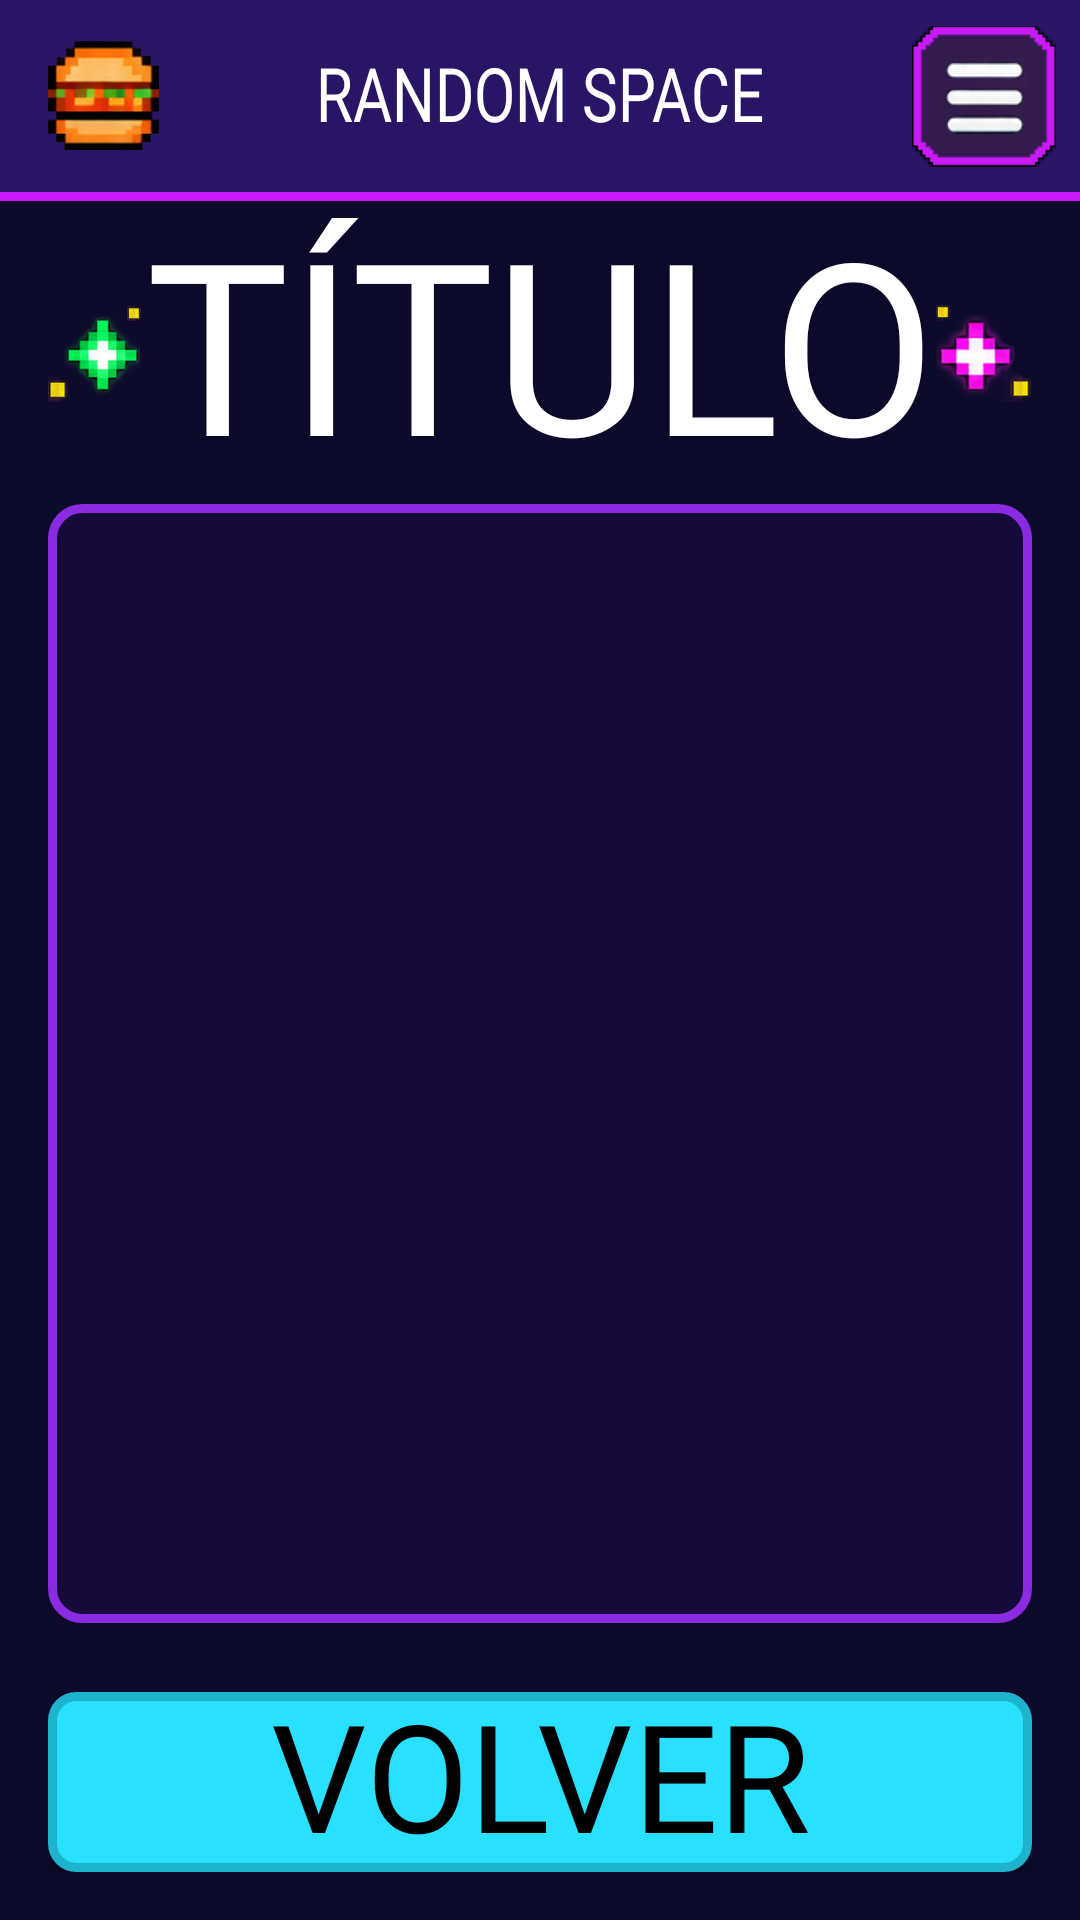

Locate icon controls on the screen. Image size 1080w x 1920h, boxes as [x1, y1, x2, y2].
Abrir menú: [912, 26, 1056, 167]
burger: [48, 41, 159, 150]
estrellas der: [936, 305, 1031, 398]
estrellas izq: [48, 306, 141, 401]
